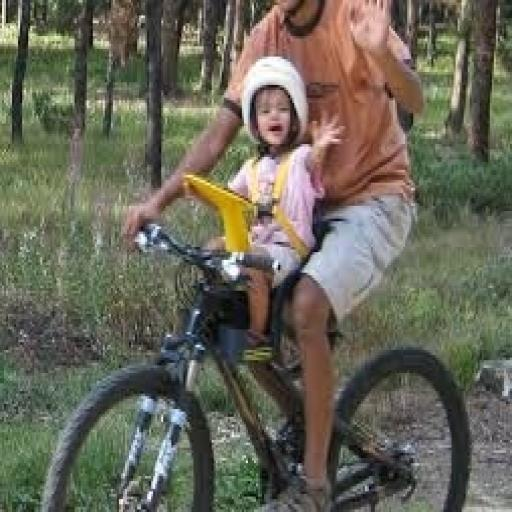cycling: (120, 0, 427, 509), (208, 54, 344, 360)
